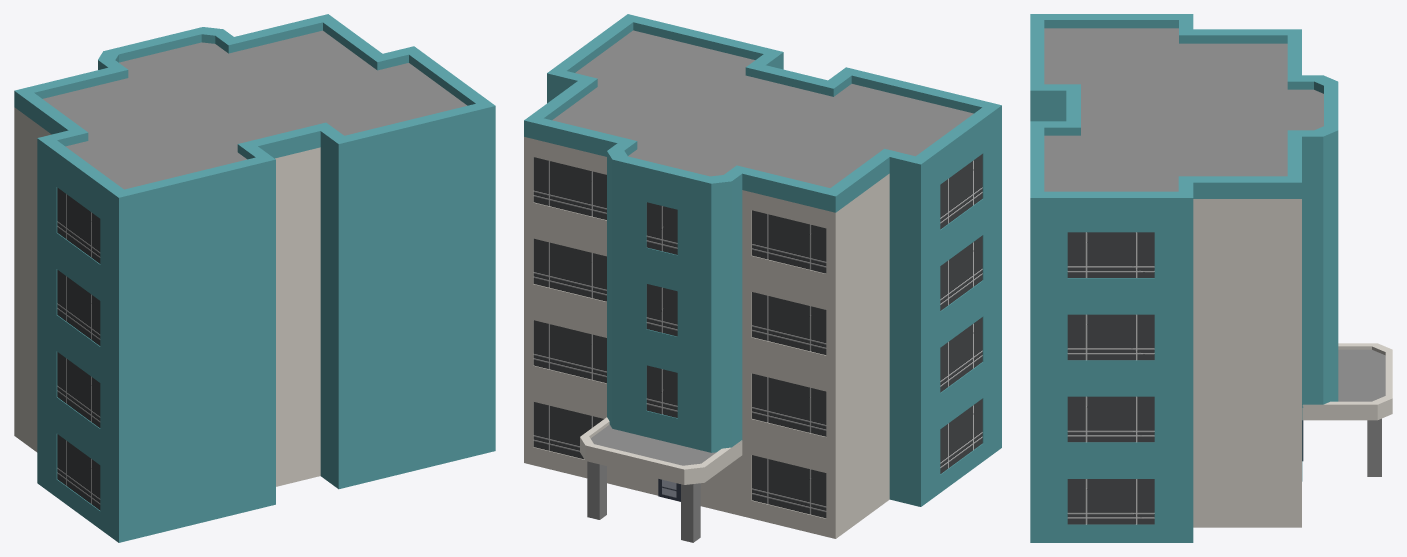
File: SPW_Urban_Bldg_01.gltf
3 renders of one model, left to right at view 1: azimuth 30°, elevation 25°; view 2: azimuth 150°, elevation 25°; view 3: azimuth 270°, elevation 25°, orthographic.
Visible parts, largest first — view 1: SPW_Urban_Bldg_01; view 2: SPW_Urban_Bldg_01; view 3: SPW_Urban_Bldg_01.
Boxes of the visible parts, left/top/right/bottom form: SPW_Urban_Bldg_01: left=14, top=14, right=495, bottom=542; SPW_Urban_Bldg_01: left=524, top=14, right=1001, bottom=542; SPW_Urban_Bldg_01: left=1030, top=14, right=1392, bottom=542.
Size of the model in its own units: 827 by 723 by 689.
Materials: 1 (1 with a texture image).
